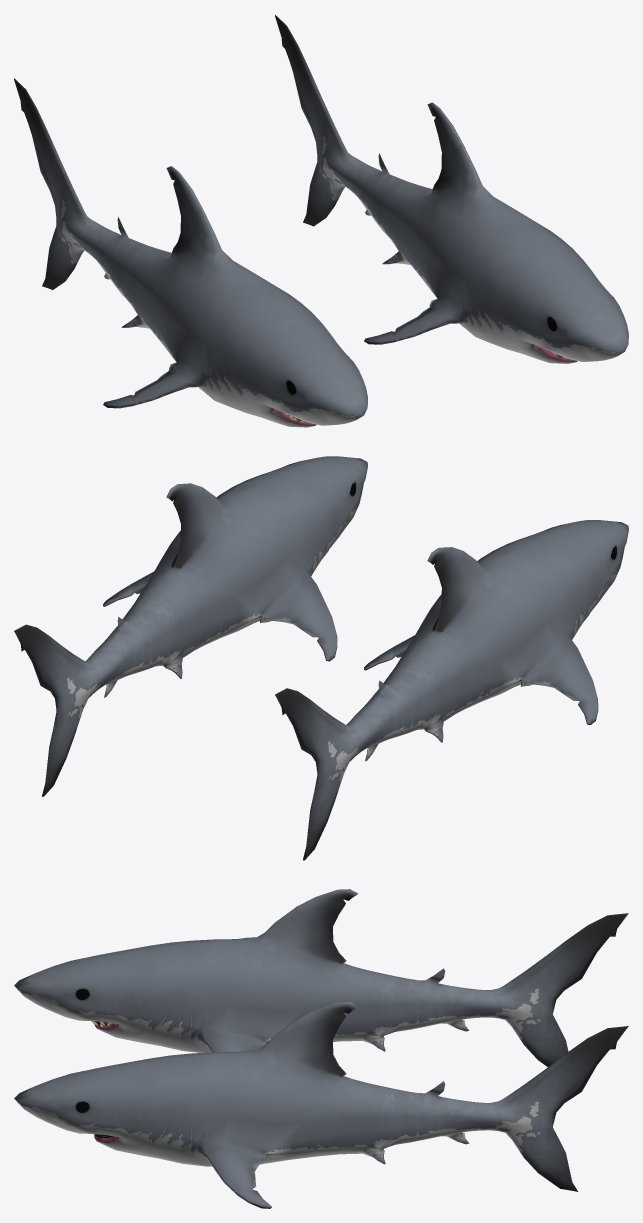
Rendered from sharkMesh.fbx.
The picture shows the model from 3 angles, top to bottom: view 1: azimuth 30°, elevation 25°; view 2: azimuth 150°, elevation 25°; view 3: azimuth 270°, elevation 25°; orthographic projection. The views are drawn at different scales.
Visible parts, largest first — view 1: RetopoFlow.001, RetopoFlow; view 2: RetopoFlow, RetopoFlow.001; view 3: RetopoFlow.001, RetopoFlow.
Part boxes in pixels (<box>): RetopoFlow.001: <box>275,15,628,363</box>; RetopoFlow: <box>14,78,367,427</box>; RetopoFlow: <box>275,520,628,860</box>; RetopoFlow.001: <box>14,456,367,796</box>; RetopoFlow.001: <box>14,1002,628,1208</box>; RetopoFlow: <box>14,889,628,1066</box>.
Bounding box in the file's own units: 1530 × 640 × 1878.
